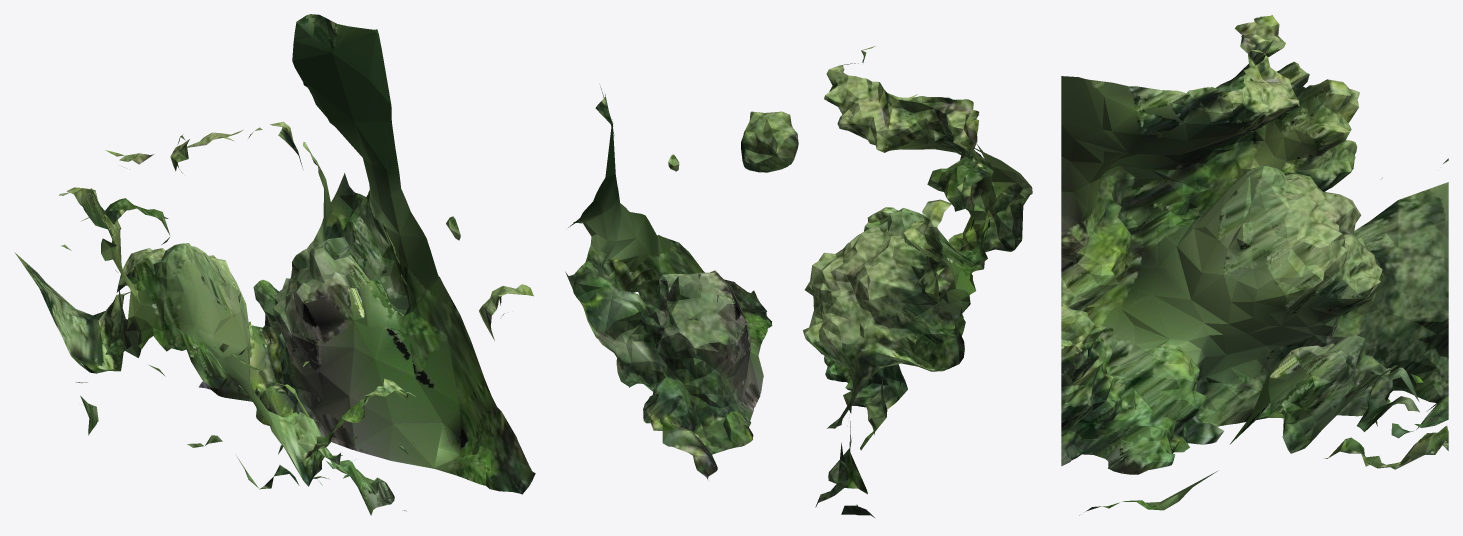
3 renders of one model, left to right at view 1: azimuth 30°, elevation 25°; view 2: azimuth 150°, elevation 25°; view 3: azimuth 270°, elevation 25°, orthographic. The views are drawn at different scales.
Bounding box in the file's own units: 26.11 × 26.11 × 26.11.
Materials: 6 (6 with a texture image).
